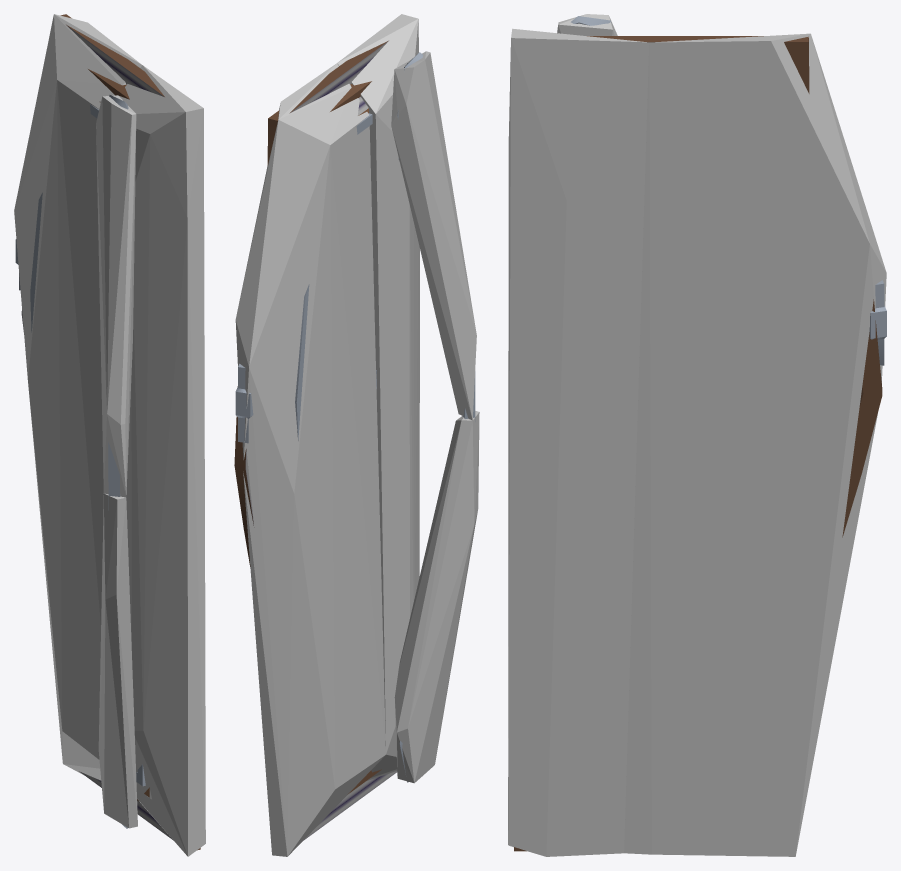
The model's file is SM_Prop_Cupboard_01_Door_01.fbx.
3 renders of one model, left to right at view 1: azimuth 30°, elevation 25°; view 2: azimuth 150°, elevation 25°; view 3: azimuth 270°, elevation 25°, orthographic. The views are drawn at different scales.
Visible parts, largest first — view 1: SM_Prop_Cupboard_01_Door_01_ConvexHulls, SM_Prop_Cupboard_01_Door_01; view 2: SM_Prop_Cupboard_01_Door_01_ConvexHulls, SM_Prop_Cupboard_01_Door_01; view 3: SM_Prop_Cupboard_01_Door_01_ConvexHulls, SM_Prop_Cupboard_01_Door_01.
Boxes of the visible parts, x1,y1,x2,y2 form: SM_Prop_Cupboard_01_Door_01_ConvexHulls: [14, 14, 205, 856]; SM_Prop_Cupboard_01_Door_01: [15, 14, 200, 850]; SM_Prop_Cupboard_01_Door_01_ConvexHulls: [235, 14, 479, 856]; SM_Prop_Cupboard_01_Door_01: [234, 40, 475, 841]; SM_Prop_Cupboard_01_Door_01_ConvexHulls: [508, 14, 886, 856]; SM_Prop_Cupboard_01_Door_01: [514, 16, 886, 851].
Size of the model in its own units: 25.89 by 87.37 by 208.
2 materials, 1 textured.
